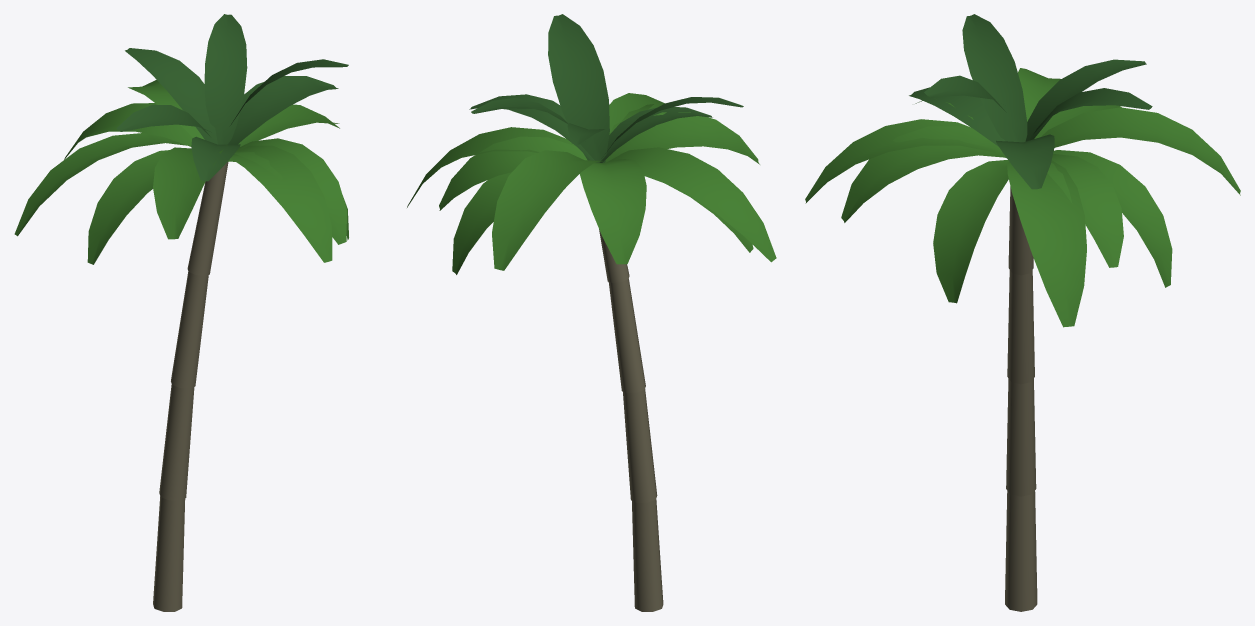
File: palm-tree.glb
3 views of the same model, side by side, from view 1: azimuth 30°, elevation 25°; view 2: azimuth 150°, elevation 25°; view 3: azimuth 270°, elevation 25° (orthographic). The views are drawn at different scales.
Parts seen in each view (by area): view 1: leaf, leaf-dark, jungle-bark; view 2: leaf, leaf-dark, jungle-bark; view 3: leaf, leaf-dark, jungle-bark.
Part boxes in pixels (<box>): leaf: <box>14,80,348,264</box>; leaf-dark: <box>116,14,348,181</box>; jungle-bark: <box>153,161,228,611</box>; leaf: <box>407,93,776,274</box>; leaf-dark: <box>469,14,743,162</box>; jungle-bark: <box>599,229,663,611</box>; leaf: <box>805,68,1240,327</box>; leaf-dark: <box>909,14,1152,189</box>; jungle-bark: <box>1005,186,1037,611</box>.
Bounding box in the file's own units: 5.61 × 7.89 × 5.34.
